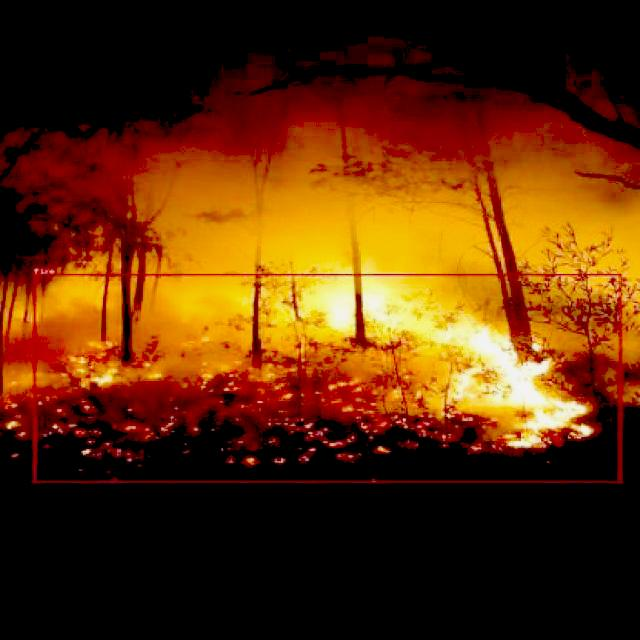fire: (33, 273, 621, 482)
